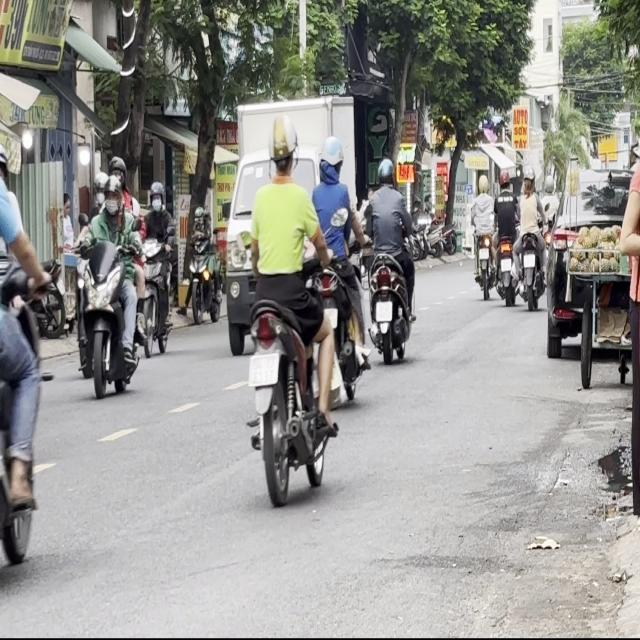helmet: (266, 115, 298, 177), (317, 133, 343, 179), (103, 173, 124, 216), (106, 154, 127, 180), (377, 157, 394, 186), (148, 180, 164, 210), (94, 170, 108, 204)
licenseplate: (240, 114, 342, 502), (73, 154, 146, 398), (308, 133, 368, 402), (364, 156, 417, 364), (137, 179, 177, 357)
nohelmet: (249, 353, 277, 385), (376, 302, 392, 321)
